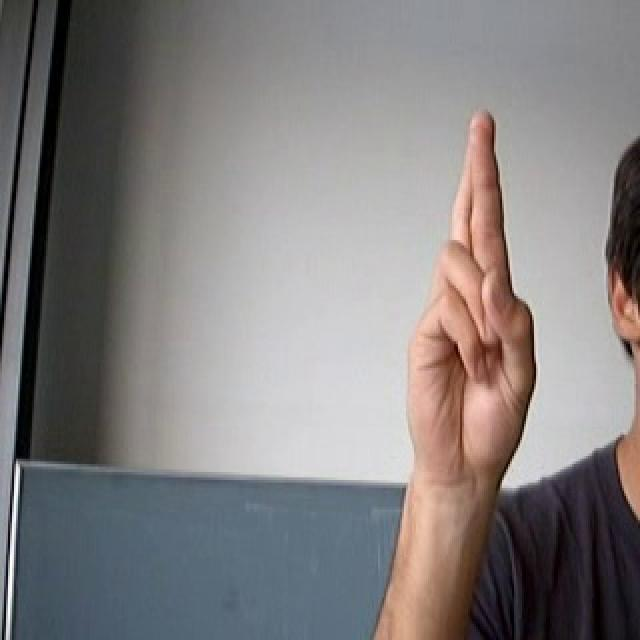R: (397, 89, 543, 502)
